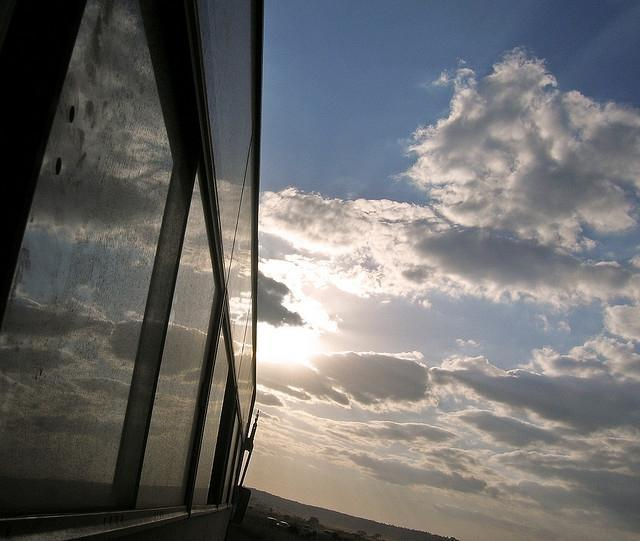bus: (0, 4, 267, 534)
